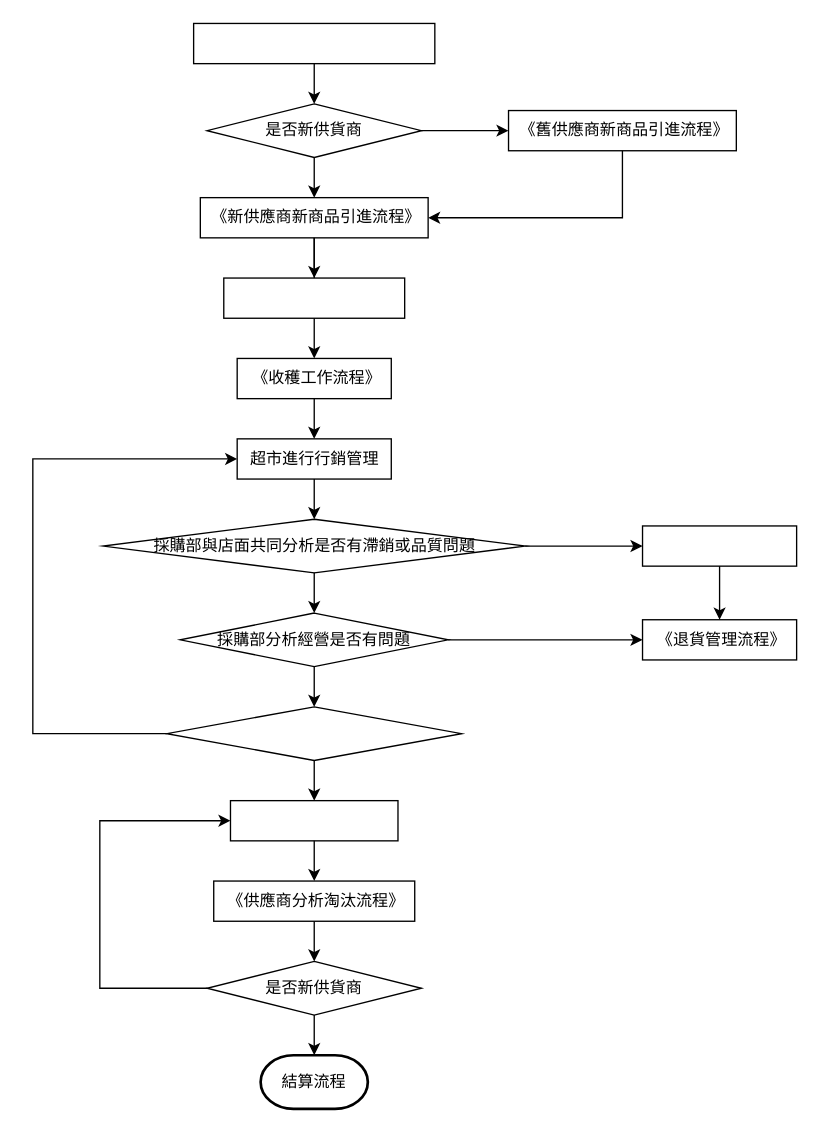
Image size: 820x1134. Some labels were removed from this diagram. The shapes that lost their labels are listed below. From the top down, each one's box as (x1, y1, x2, y2) in pixels, then its label:
(192, 22, 435, 64): 超市總經理與供貨商淺談業務
(222, 277, 405, 318): 《訂貨管理作業流程》
(641, 525, 797, 566): 採購部處理解決
(165, 706, 462, 760): 訊息部:新商品試賣是否已到期
(229, 799, 398, 841): 《新商品轉正流程》
